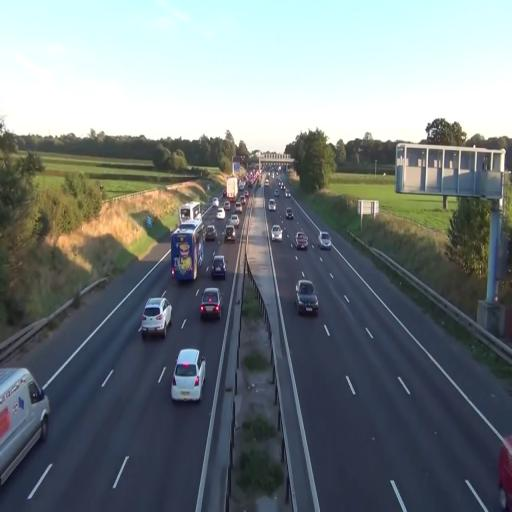vehicle: (0, 366, 51, 488), (170, 347, 206, 403), (171, 226, 199, 283), (140, 296, 172, 340), (294, 278, 320, 316), (199, 287, 222, 322), (210, 254, 226, 280), (224, 218, 239, 243), (202, 222, 217, 242), (318, 231, 332, 250), (224, 223, 237, 243), (295, 231, 308, 250), (271, 224, 283, 240)
